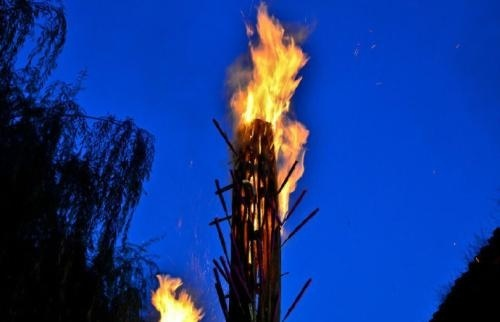fire: (224, 2, 311, 244), (148, 272, 205, 319)
